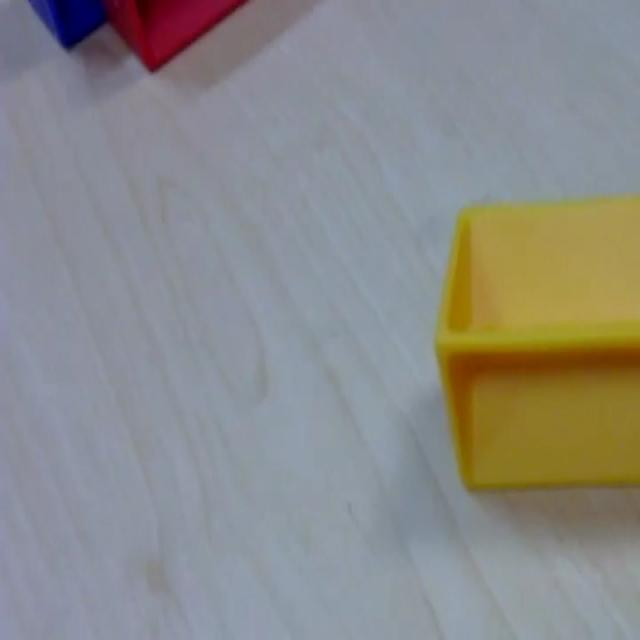yellow_block: (434, 192, 638, 492)
